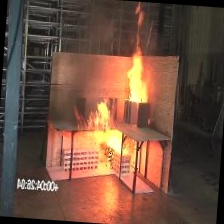fire: (110, 2, 164, 118), (78, 90, 136, 182)
